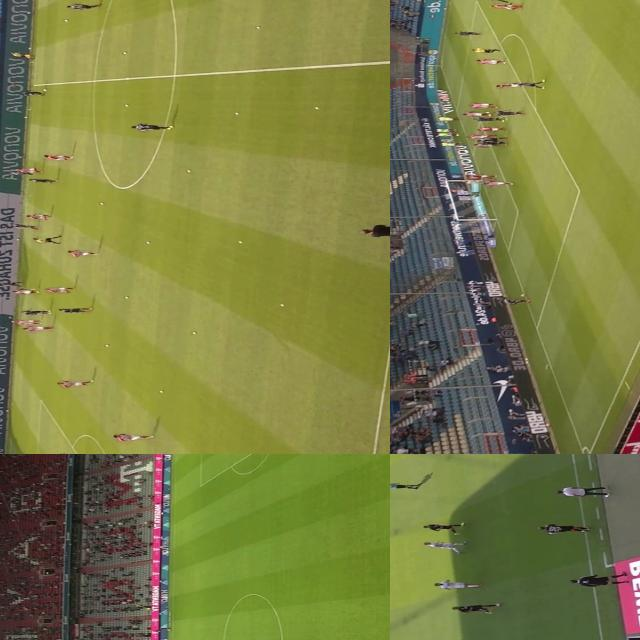ball: (538, 526, 554, 532), (252, 24, 262, 30), (96, 201, 104, 207), (237, 240, 245, 246), (517, 292, 525, 298), (188, 332, 198, 336), (232, 111, 240, 116), (184, 170, 193, 174), (276, 304, 285, 308), (122, 296, 130, 300), (102, 344, 110, 348), (156, 390, 164, 394), (144, 241, 152, 245), (121, 52, 129, 56), (124, 104, 130, 108), (312, 106, 318, 110), (62, 19, 68, 23), (57, 452, 66, 454), (42, 90, 48, 92)
player: (428, 576, 482, 592), (418, 538, 472, 554), (532, 522, 588, 536), (416, 520, 464, 536), (450, 604, 496, 614), (490, 2, 524, 14), (111, 433, 154, 442), (42, 152, 76, 162), (472, 57, 506, 67), (511, 81, 544, 91), (128, 125, 174, 132), (61, 250, 99, 258), (53, 380, 91, 388), (66, 4, 100, 12), (452, 28, 482, 36), (492, 82, 522, 90), (500, 298, 530, 306), (59, 307, 93, 314), (10, 223, 38, 231), (463, 173, 494, 180), (482, 180, 512, 187), (46, 286, 72, 294), (12, 288, 38, 296), (458, 112, 492, 118), (471, 117, 503, 123), (24, 213, 50, 220), (16, 319, 42, 326), (469, 103, 495, 110), (26, 179, 56, 185), (474, 126, 504, 132), (22, 326, 51, 332), (22, 310, 50, 316), (492, 110, 520, 116), (470, 142, 498, 148), (17, 91, 44, 97), (18, 168, 43, 174), (461, 134, 495, 138), (11, 171, 33, 177), (461, 180, 493, 184), (476, 138, 506, 142), (477, 141, 501, 145), (476, 0, 510, 1)
